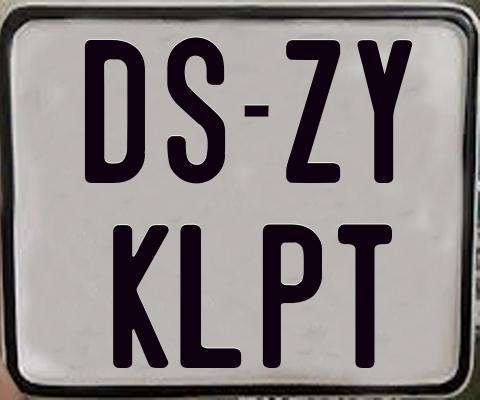D: (83, 37, 146, 183)
K: (113, 225, 175, 373)
L: (180, 223, 243, 366)
P: (260, 224, 324, 373)
S: (167, 34, 231, 186)
T: (338, 223, 393, 372)
Y: (356, 38, 412, 186)
Z: (285, 37, 341, 186)
